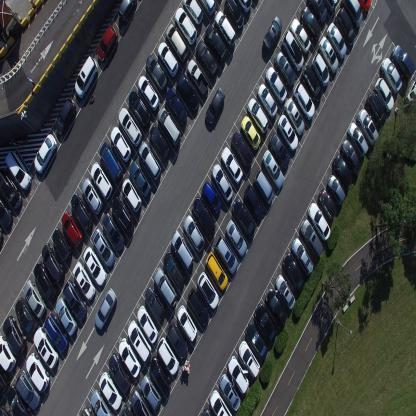car: (4, 150, 32, 192), (33, 326, 59, 370), (62, 280, 88, 322), (94, 287, 118, 331), (74, 55, 98, 99), (231, 198, 256, 240), (99, 141, 123, 184), (25, 352, 50, 393), (41, 242, 64, 286), (153, 266, 177, 308), (127, 320, 151, 362), (108, 353, 132, 395), (44, 312, 68, 354), (2, 314, 26, 356), (33, 132, 57, 174), (254, 301, 276, 346), (170, 229, 194, 270), (118, 106, 142, 147), (72, 259, 96, 300), (54, 296, 78, 337), (15, 370, 40, 409), (148, 355, 171, 397), (0, 169, 23, 211), (307, 202, 331, 242), (98, 371, 122, 411), (214, 235, 238, 275), (204, 22, 228, 62), (92, 228, 116, 268), (83, 246, 107, 286), (390, 42, 415, 80), (245, 321, 268, 362), (300, 218, 323, 259), (118, 337, 141, 378), (195, 39, 218, 80), (23, 279, 46, 320), (158, 106, 182, 145), (33, 262, 57, 301), (5, 384, 34, 416), (264, 288, 287, 328), (192, 196, 215, 236), (156, 337, 179, 377), (186, 286, 209, 326), (165, 23, 188, 63), (176, 70, 199, 110), (127, 89, 150, 129), (138, 140, 161, 180), (101, 211, 124, 251), (15, 298, 38, 338), (290, 237, 314, 275), (128, 160, 152, 198), (238, 339, 260, 380), (282, 251, 304, 292), (262, 148, 284, 189), (282, 29, 304, 70), (136, 303, 158, 344), (219, 372, 242, 411), (174, 6, 197, 45), (70, 192, 93, 231), (227, 355, 249, 395), (356, 107, 378, 147), (334, 6, 356, 46), (206, 251, 228, 291), (90, 161, 112, 201), (293, 81, 315, 120), (166, 320, 188, 359), (226, 218, 248, 257), (214, 10, 236, 49), (165, 87, 187, 126), (220, 146, 243, 183), (186, 58, 209, 95), (111, 196, 134, 233), (274, 272, 296, 310), (347, 120, 369, 158), (274, 49, 296, 87), (265, 65, 287, 103), (231, 131, 253, 169), (212, 163, 234, 201), (162, 250, 184, 288), (176, 305, 198, 343), (198, 272, 220, 310), (146, 54, 168, 92), (138, 73, 160, 111), (96, 24, 118, 62), (205, 85, 225, 126), (284, 96, 305, 135), (262, 14, 283, 53), (340, 138, 362, 175), (140, 375, 162, 412), (54, 97, 76, 134), (366, 89, 386, 129), (326, 21, 347, 59), (109, 125, 130, 163), (81, 177, 102, 215), (380, 56, 402, 92), (268, 132, 290, 168), (246, 97, 268, 133), (301, 64, 322, 101), (290, 16, 311, 53), (158, 40, 179, 77), (121, 176, 142, 213), (61, 212, 83, 247), (184, 214, 204, 252), (244, 183, 264, 221), (257, 82, 278, 118), (148, 125, 170, 159), (319, 35, 338, 74), (278, 114, 298, 151), (254, 168, 274, 205), (240, 114, 260, 151), (374, 76, 394, 112), (52, 227, 72, 263), (201, 180, 222, 214), (144, 286, 165, 320), (332, 154, 352, 188), (301, 6, 321, 40), (326, 173, 346, 206), (90, 389, 115, 415), (209, 388, 233, 415), (311, 51, 329, 87), (0, 334, 17, 372), (318, 187, 336, 222), (223, 0, 244, 30), (340, 0, 363, 27), (130, 388, 153, 415), (182, 0, 203, 25), (306, 0, 328, 23), (404, 75, 416, 113), (118, 0, 137, 23), (0, 197, 14, 228), (0, 364, 11, 395), (197, 0, 216, 16), (233, 0, 253, 14), (357, 0, 372, 13), (323, 0, 338, 12), (119, 403, 133, 415), (0, 403, 12, 415), (80, 405, 93, 415), (200, 407, 213, 415), (0, 227, 5, 246)
